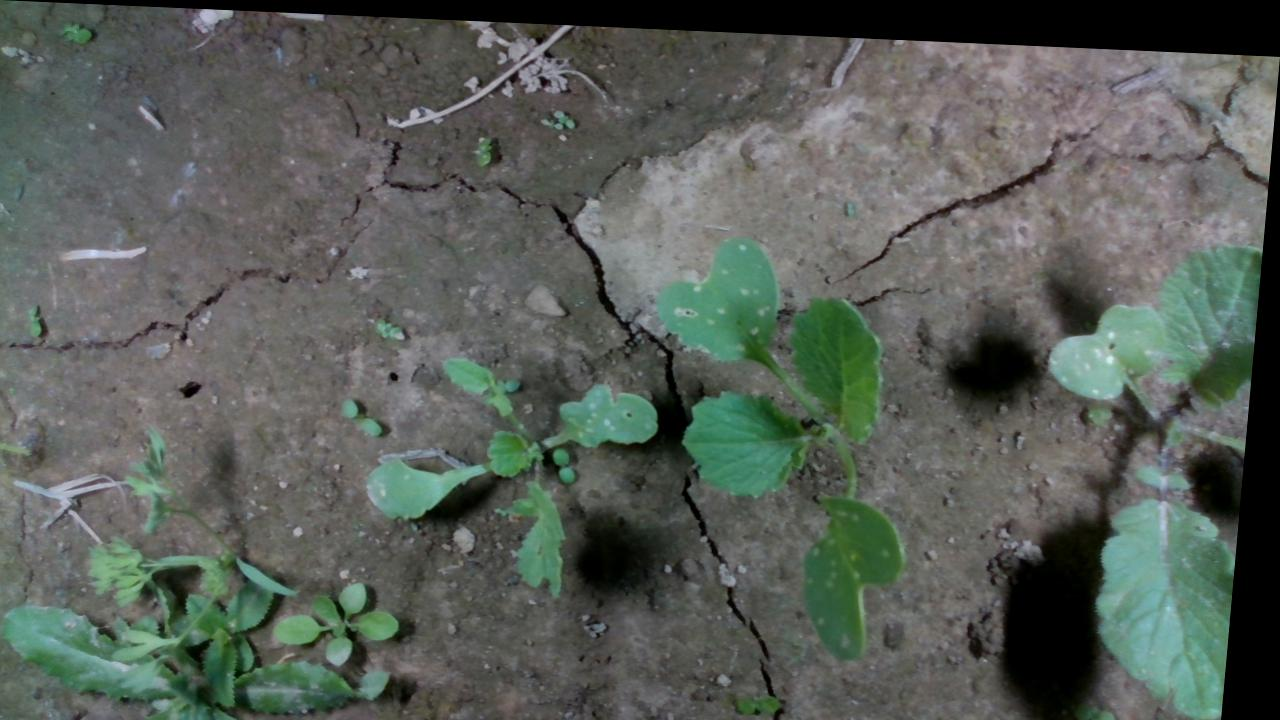weed: (342, 382, 403, 437), (539, 100, 586, 143), (467, 127, 505, 169), (58, 17, 101, 53), (744, 682, 795, 708), (557, 441, 588, 481), (371, 310, 408, 340), (844, 191, 868, 210)
